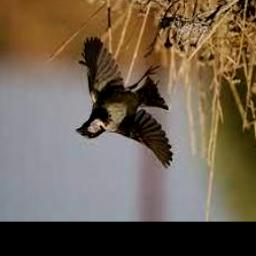Sparrow: (76, 37, 173, 169)
